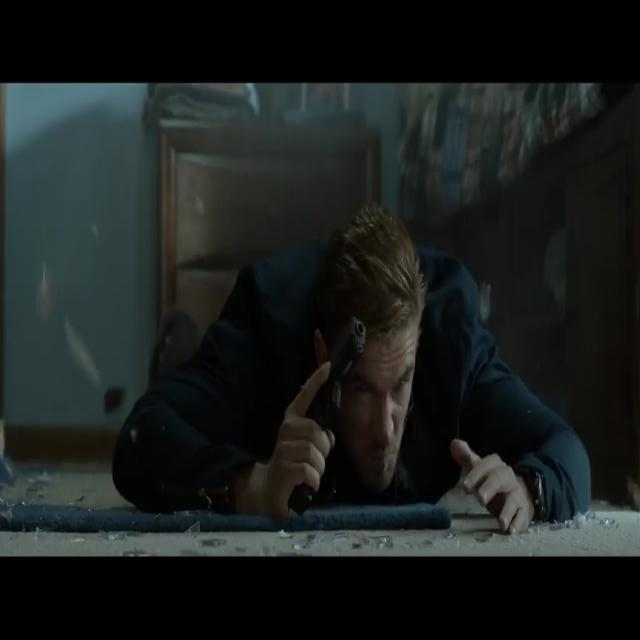Weapon: (270, 301, 391, 512)
